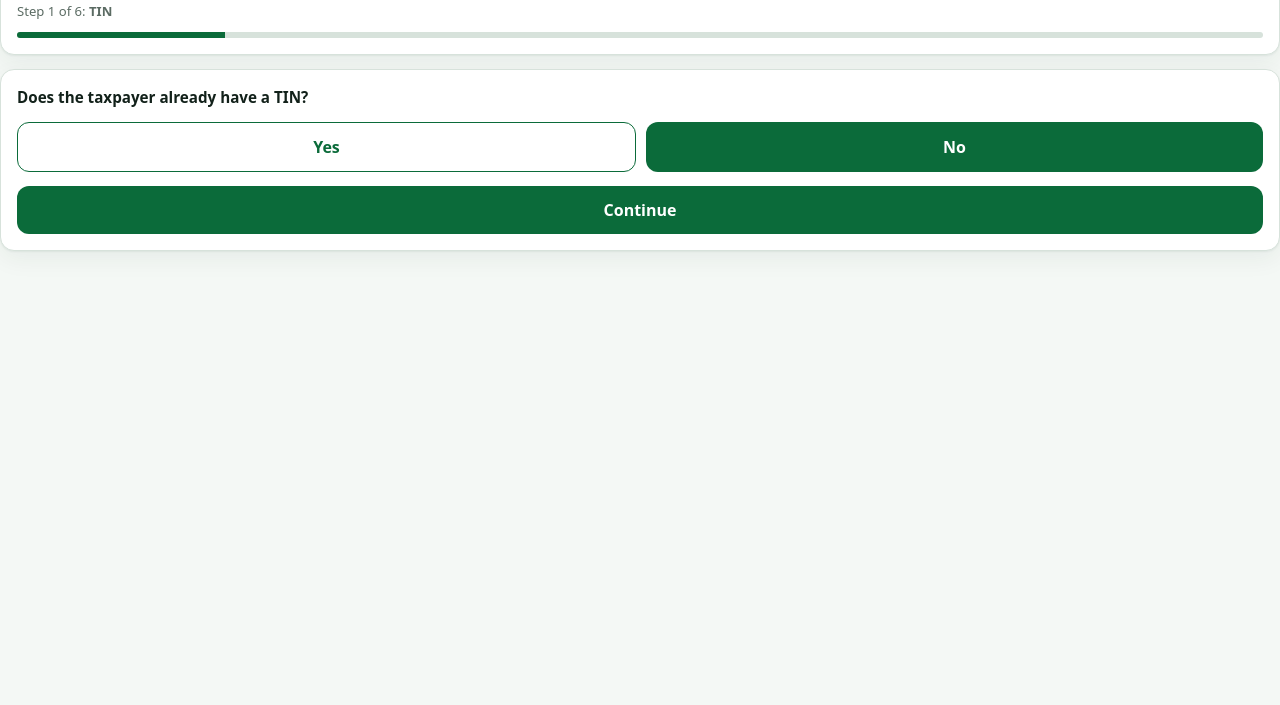
Test case: registering somebody when the LGA list did not arrive › lets the registration go on when the list arrives on the second ask
Step 1. Click the button "Continue" → coordinates (640, 210), box [17,186,1263,234]
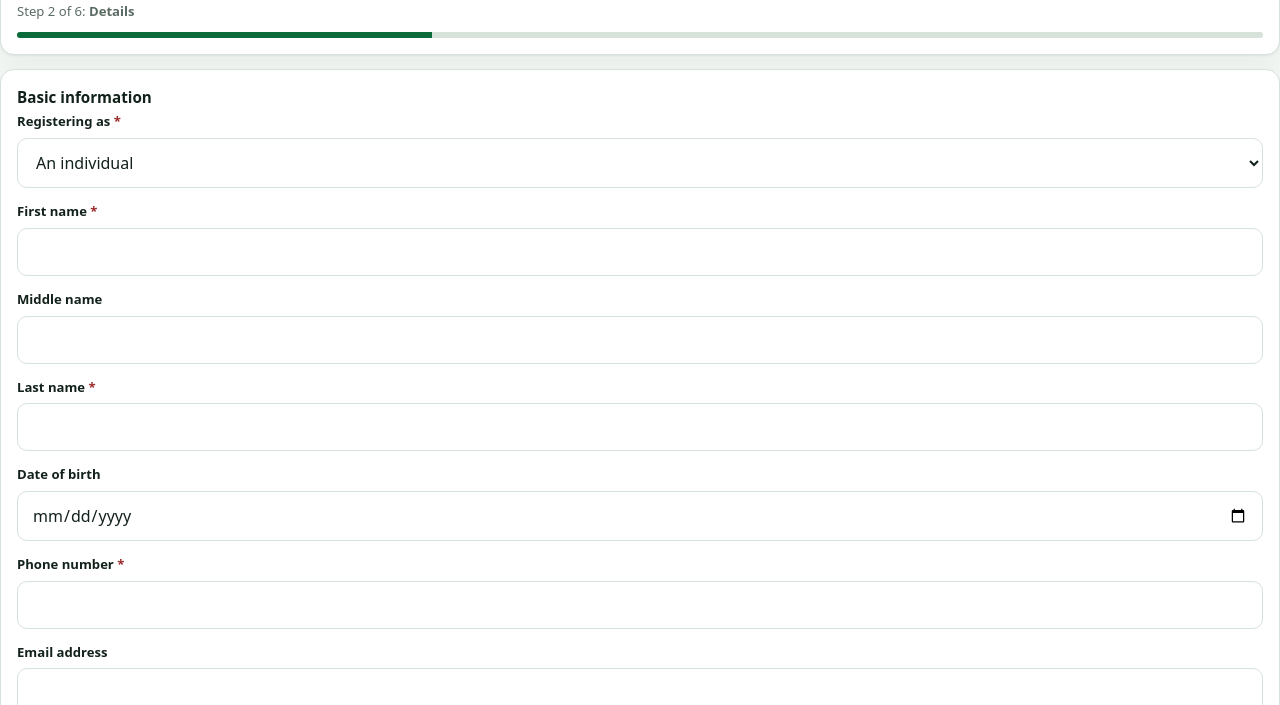
Step 2. Type "Ladi" into the field labelled "First name" → coordinates (640, 252), box [17,228,1263,276]
Step 3. Type "Bala" into the field labelled "Last name" → coordinates (640, 427), box [17,403,1263,451]
Step 4. Type "08030000001" into the field labelled "Phone number" → coordinates (640, 605), box [17,581,1263,629]
(page scrolled)
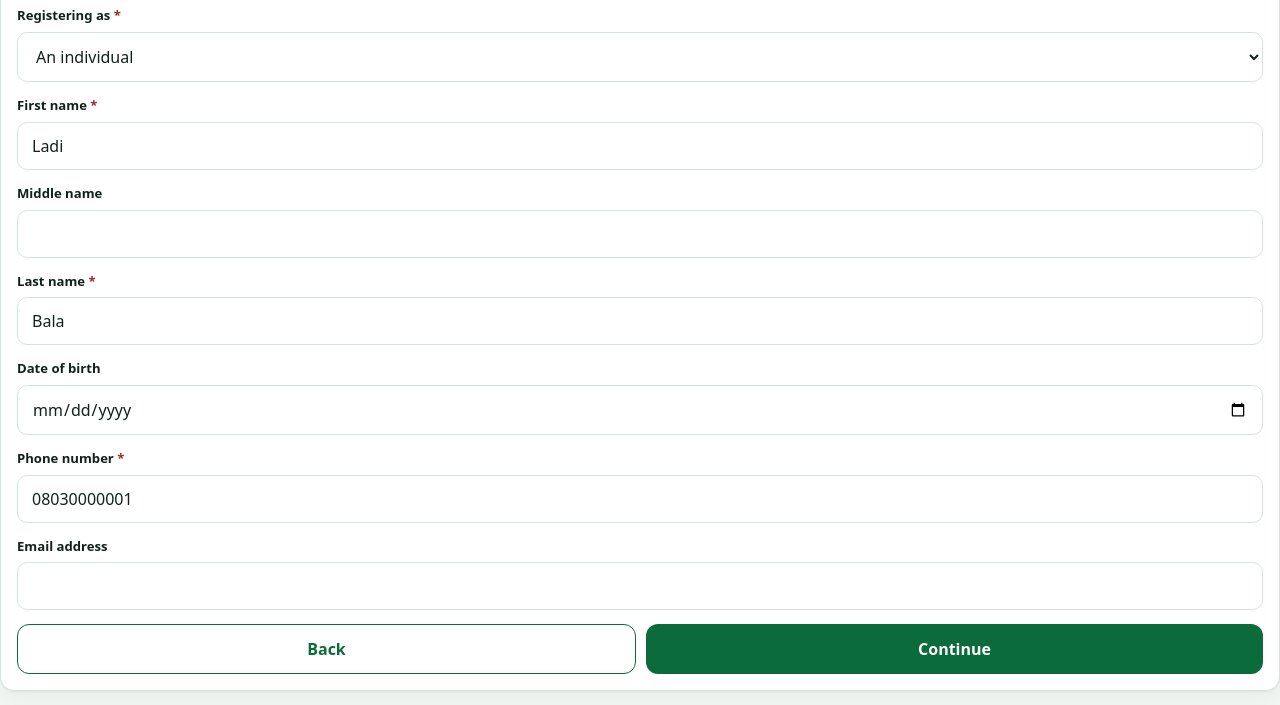
Step 5. Click the button "Continue" → coordinates (954, 649), box [646,624,1263,674]
(page scrolled)
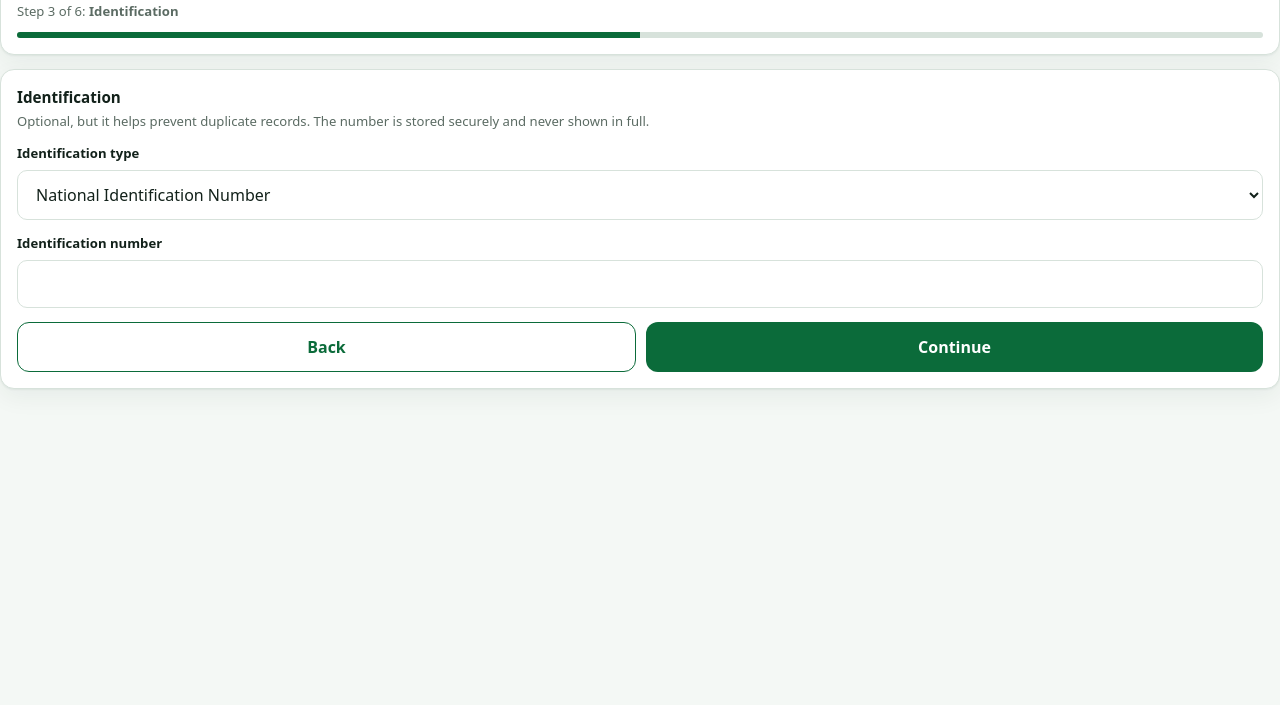
Step 6. Click the button "Continue" → coordinates (954, 346), box [646,322,1263,372]
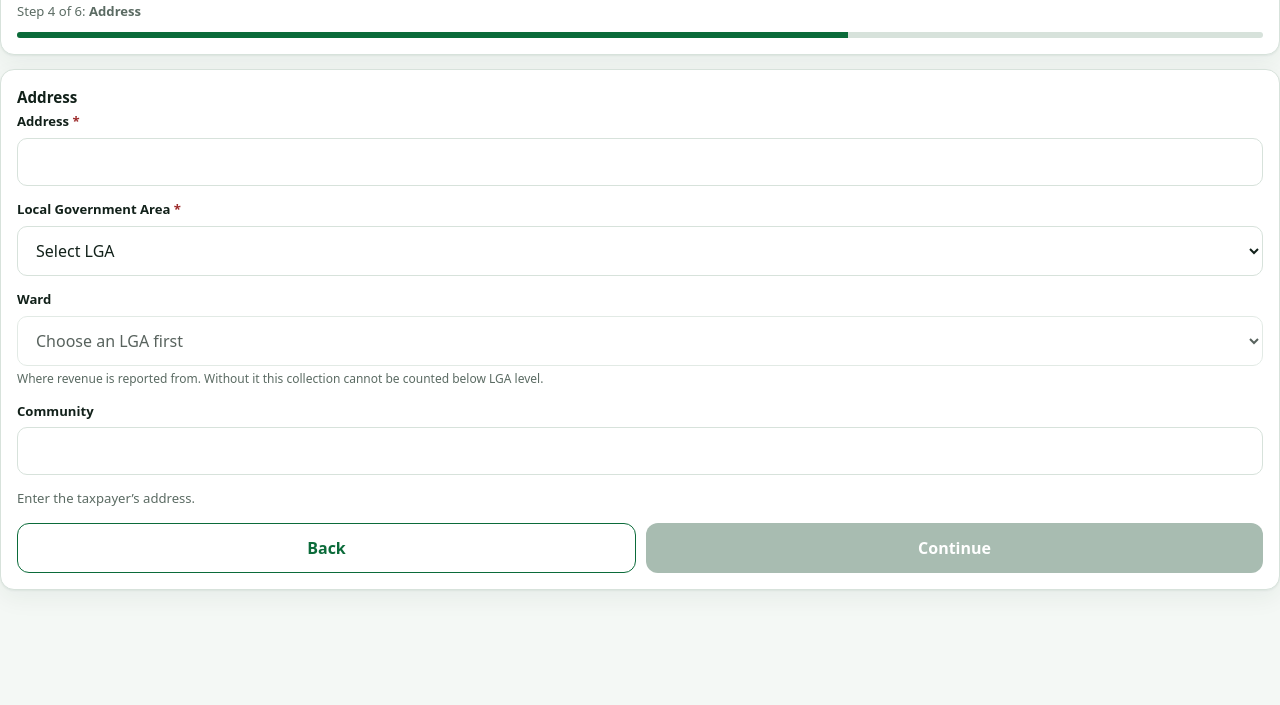
Step 7. Type "14 Rukuba Road" into the field labelled "Address" → coordinates (640, 162), box [17,138,1263,186]
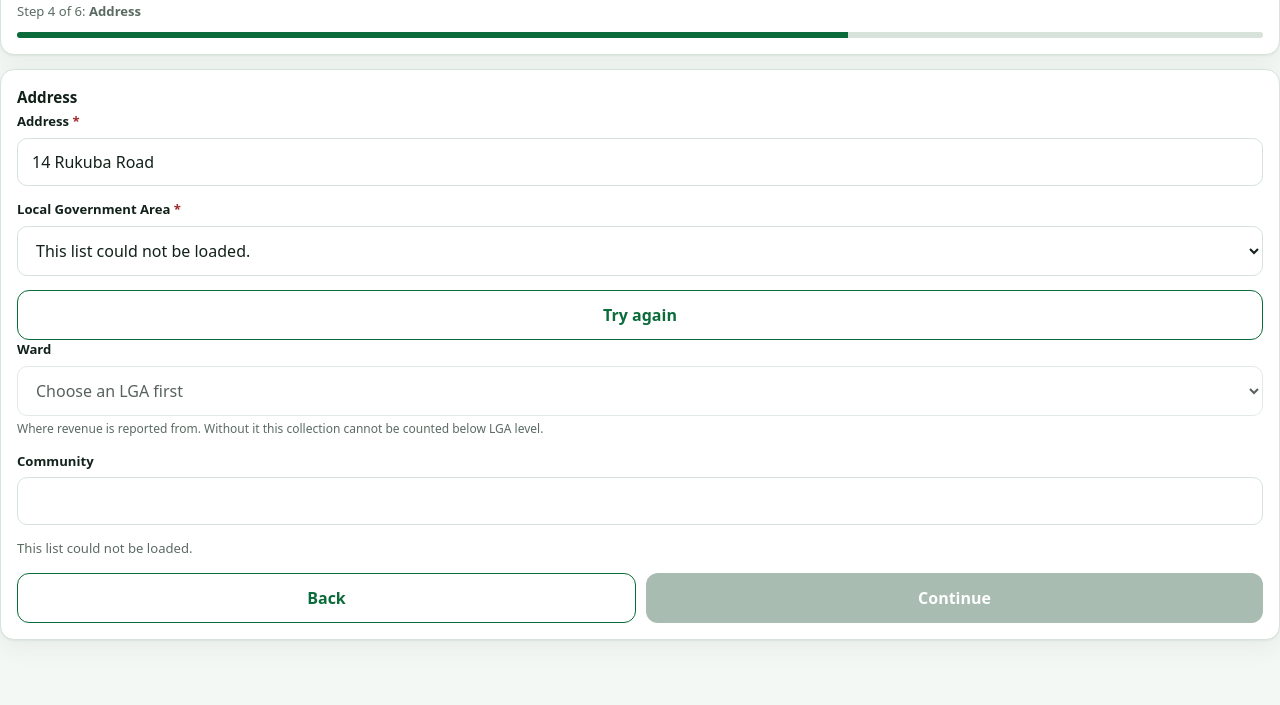
Step 8. Click the button "Try again" → coordinates (640, 315), box [17,290,1263,340]
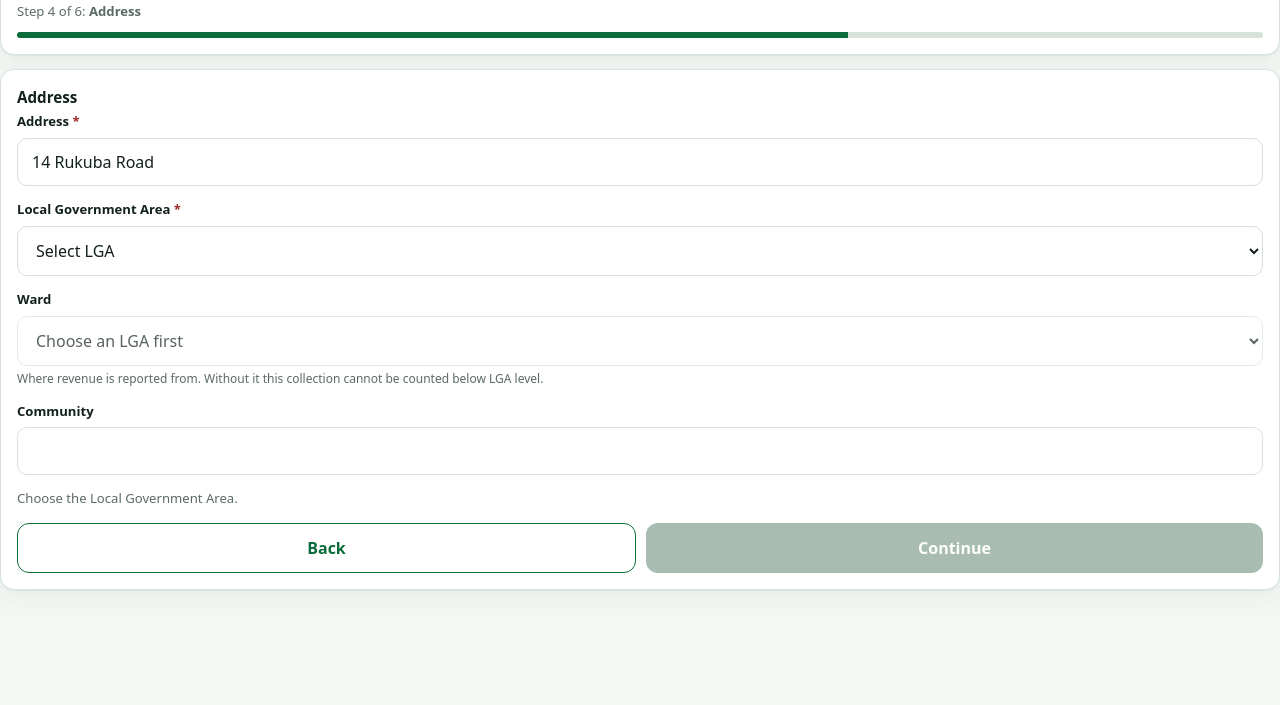
Now the text "This list could not be loaded." is gone
